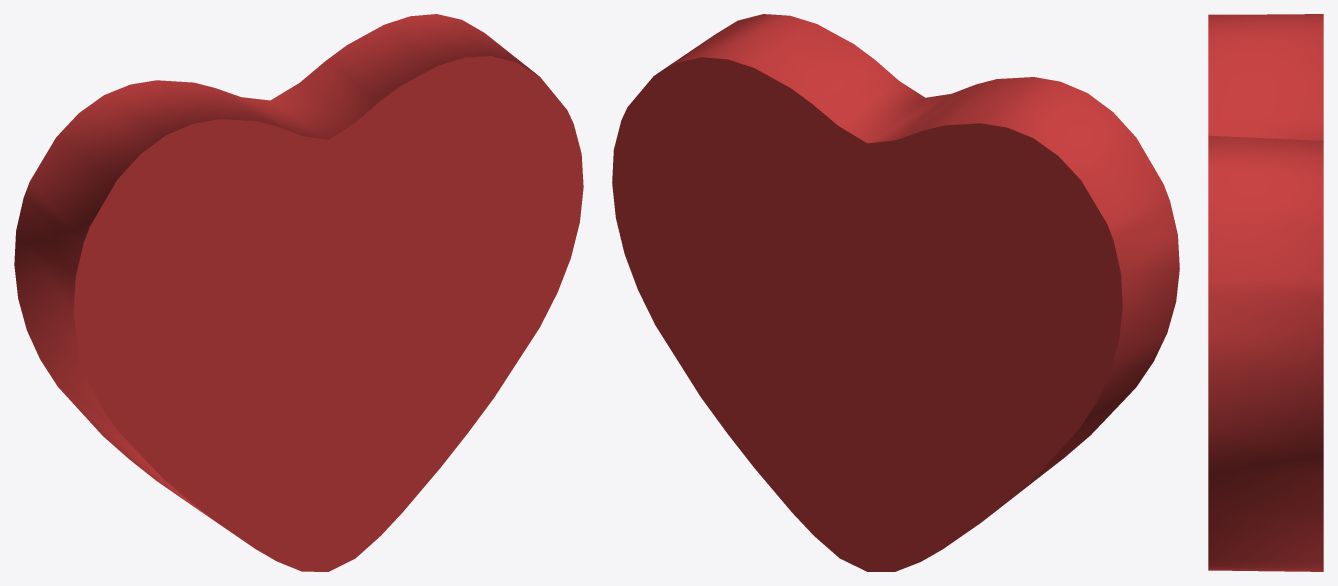
The model's file is Heart (1).fbx.
3 views of the same model, side by side, from view 1: azimuth 30°, elevation 25°; view 2: azimuth 150°, elevation 25°; view 3: azimuth 270°, elevation 25° (orthographic).
Parts seen in each view (by area): view 1: Heart; view 2: Heart; view 3: Heart.
Part boxes in pixels (bbox=[...]): Heart: bbox=[14, 14, 583, 571]; Heart: bbox=[612, 14, 1179, 571]; Heart: bbox=[1208, 14, 1323, 571].
Size of the model in its own units: 18.34 by 16.5 by 3.62.
